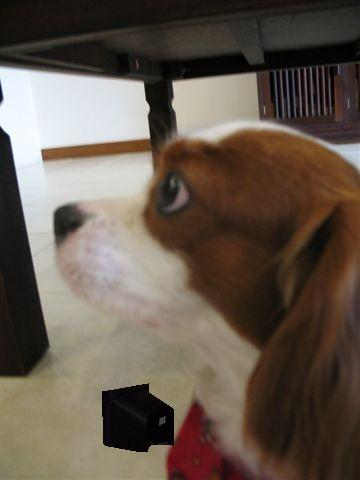tampered: (103, 384, 174, 452)
